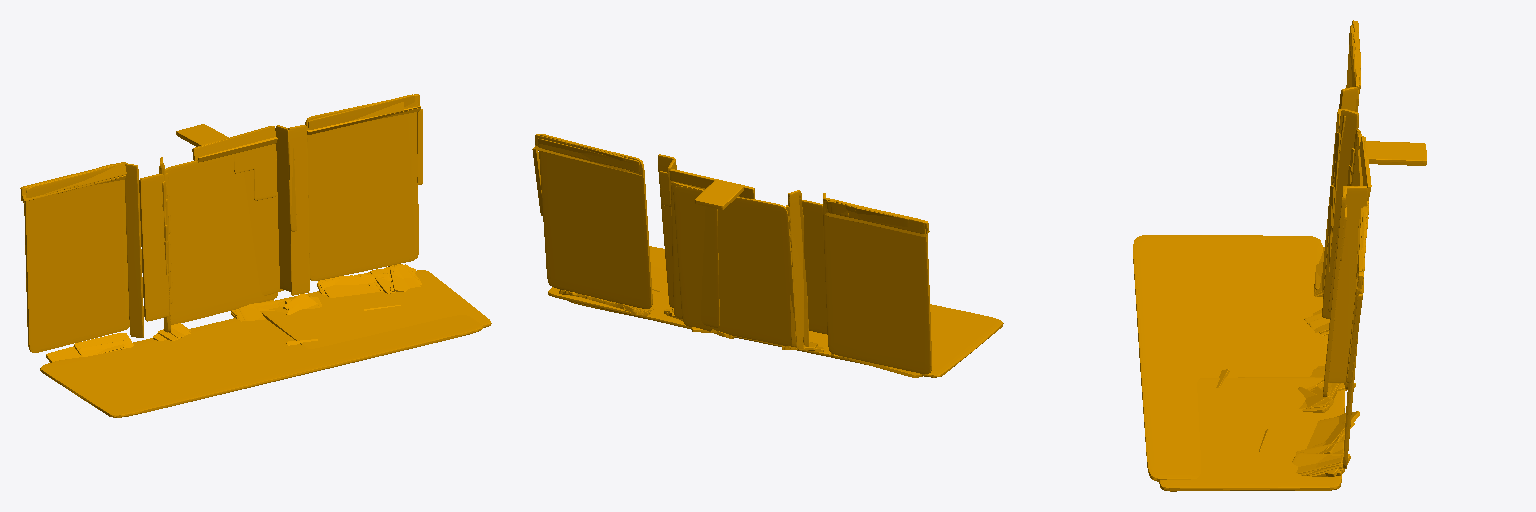
--- What the picture shows (computed from the rendered views, not written in the file) ---
Views: 3 orthographic renders of the robot side by side, from view 1: azimuth 30°, elevation 25°; view 2: azimuth 150°, elevation 25°; view 3: azimuth 270°, elevation 25°.
Robot: scene — 1 links, 0 joints (none); root link scene_link; default pose: every joint at zero.
Links seen in each view (by area): view 1: scene_link; view 2: scene_link; view 3: scene_link.
Link boxes in pixels (bbox=[...]): scene_link: bbox=[20, 94, 491, 417]; scene_link: bbox=[532, 134, 1003, 377]; scene_link: bbox=[1133, 20, 1426, 491].
Size in the robot's own frame: 5.44 by 2.71 by 2.32 metres.
109 mesh visuals loaded from 109 distinct referenced files (109 OBJ).

The robot description file, URDF, robot "scene":
<?xml version='1.0' encoding='utf-8'?>
<robot name="scene"><link name="scene_link"><visual><origin xyz="0.000000 0.000000 0.000000" rpy="0.000000 -0.000000 0.000000" /><geometry><mesh filename="part_000.obj" /></geometry></visual><collision><origin xyz="0.000000 0.000000 0.000000" rpy="0.000000 -0.000000 0.000000" /><geometry><mesh filename="part_000.obj" /></geometry></collision><visual><origin xyz="0.000000 0.000000 0.000000" rpy="0.000000 -0.000000 0.000000" /><geometry><mesh filename="part_001.obj" /></geometry></visual><collision><origin xyz="0.000000 0.000000 0.000000" rpy="0.000000 -0.000000 0.000000" /><geometry><mesh filename="part_001.obj" /></geometry></collision><visual><origin xyz="0.000000 0.000000 0.000000" rpy="0.000000 -0.000000 0.000000" /><geometry><mesh filename="part_002.obj" /></geometry></visual><collision><origin xyz="0.000000 0.000000 0.000000" rpy="0.000000 -0.000000 0.000000" /><geometry><mesh filename="part_002.obj" /></geometry></collision><visual><origin xyz="0.000000 0.000000 0.000000" rpy="0.000000 -0.000000 0.000000" /><geometry><mesh filename="part_003.obj" /></geometry></visual><collision><origin xyz="0.000000 0.000000 0.000000" rpy="0.000000 -0.000000 0.000000" /><geometry><mesh filename="part_003.obj" /></geometry></collision><visual><origin xyz="0.000000 0.000000 0.000000" rpy="0.000000 -0.000000 0.000000" /><geometry><mesh filename="part_004.obj" /></geometry></visual><collision><origin xyz="0.000000 0.000000 0.000000" rpy="0.000000 -0.000000 0.000000" /><geometry><mesh filename="part_004.obj" /></geometry></collision><visual><origin xyz="0.000000 0.000000 0.000000" rpy="0.000000 -0.000000 0.000000" /><geometry><mesh filename="part_005.obj" /></geometry></visual><collision><origin xyz="0.000000 0.000000 0.000000" rpy="0.000000 -0.000000 0.000000" /><geometry><mesh filename="part_005.obj" /></geometry></collision><visual><origin xyz="0.000000 0.000000 0.000000" rpy="0.000000 -0.000000 0.000000" /><geometry><mesh filename="part_006.obj" /></geometry></visual><collision><origin xyz="0.000000 0.000000 0.000000" rpy="0.000000 -0.000000 0.000000" /><geometry><mesh filename="part_006.obj" /></geometry></collision><visual><origin xyz="0.000000 0.000000 0.000000" rpy="0.000000 -0.000000 0.000000" /><geometry><mesh filename="part_007.obj" /></geometry></visual><collision><origin xyz="0.000000 0.000000 0.000000" rpy="0.000000 -0.000000 0.000000" /><geometry><mesh filename="part_007.obj" /></geometry></collision><visual><origin xyz="0.000000 0.000000 0.000000" rpy="0.000000 -0.000000 0.000000" /><geometry><mesh filename="part_008.obj" /></geometry></visual><collision><origin xyz="0.000000 0.000000 0.000000" rpy="0.000000 -0.000000 0.000000" /><geometry><mesh filename="part_008.obj" /></geometry></collision><visual><origin xyz="0.000000 0.000000 0.000000" rpy="0.000000 -0.000000 0.000000" /><geometry><mesh filename="part_009.obj" /></geometry></visual><collision><origin xyz="0.000000 0.000000 0.000000" rpy="0.000000 -0.000000 0.000000" /><geometry><mesh filename="part_009.obj" /></geometry></collision><visual><origin xyz="0.000000 0.000000 0.000000" rpy="0.000000 -0.000000 0.000000" /><geometry><mesh filename="part_010.obj" /></geometry></visual><collision><origin xyz="0.000000 0.000000 0.000000" rpy="0.000000 -0.000000 0.000000" /><geometry><mesh filename="part_010.obj" /></geometry></collision><visual><origin xyz="0.000000 0.000000 0.000000" rpy="0.000000 -0.000000 0.000000" /><geometry><mesh filename="part_011.obj" /></geometry></visual><collision><origin xyz="0.000000 0.000000 0.000000" rpy="0.000000 -0.000000 0.000000" /><geometry><mesh filename="part_011.obj" /></geometry></collision><visual><origin xyz="0.000000 0.000000 0.000000" rpy="0.000000 -0.000000 0.000000" /><geometry><mesh filename="part_012.obj" /></geometry></visual><collision><origin xyz="0.000000 0.000000 0.000000" rpy="0.000000 -0.000000 0.000000" /><geometry><mesh filename="part_012.obj" /></geometry></collision><visual><origin xyz="0.000000 0.000000 0.000000" rpy="0.000000 -0.000000 0.000000" /><geometry><mesh filename="part_013.obj" /></geometry></visual><collision><origin xyz="0.000000 0.000000 0.000000" rpy="0.000000 -0.000000 0.000000" /><geometry><mesh filename="part_013.obj" /></geometry></collision><visual><origin xyz="0.000000 0.000000 0.000000" rpy="0.000000 -0.000000 0.000000" /><geometry><mesh filename="part_014.obj" /></geometry></visual><collision><origin xyz="0.000000 0.000000 0.000000" rpy="0.000000 -0.000000 0.000000" /><geometry><mesh filename="part_014.obj" /></geometry></collision><visual><origin xyz="0.000000 0.000000 0.000000" rpy="0.000000 -0.000000 0.000000" /><geometry><mesh filename="part_015.obj" /></geometry></visual><collision><origin xyz="0.000000 0.000000 0.000000" rpy="0.000000 -0.000000 0.000000" /><geometry><mesh filename="part_015.obj" /></geometry></collision><visual><origin xyz="0.000000 0.000000 0.000000" rpy="0.000000 -0.000000 0.000000" /><geometry><mesh filename="part_016.obj" /></geometry></visual><collision><origin xyz="0.000000 0.000000 0.000000" rpy="0.000000 -0.000000 0.000000" /><geometry><mesh filename="part_016.obj" /></geometry></collision><visual><origin xyz="0.000000 0.000000 0.000000" rpy="0.000000 -0.000000 0.000000" /><geometry><mesh filename="part_017.obj" /></geometry></visual><collision><origin xyz="0.000000 0.000000 0.000000" rpy="0.000000 -0.000000 0.000000" /><geometry><mesh filename="part_017.obj" /></geometry></collision><visual><origin xyz="0.000000 0.000000 0.000000" rpy="0.000000 -0.000000 0.000000" /><geometry><mesh filename="part_018.obj" /></geometry></visual><collision><origin xyz="0.000000 0.000000 0.000000" rpy="0.000000 -0.000000 0.000000" /><geometry><mesh filename="part_018.obj" /></geometry></collision><visual><origin xyz="0.000000 0.000000 0.000000" rpy="0.000000 -0.000000 0.000000" /><geometry><mesh filename="part_019.obj" /></geometry></visual><collision><origin xyz="0.000000 0.000000 0.000000" rpy="0.000000 -0.000000 0.000000" /><geometry><mesh filename="part_019.obj" /></geometry></collision><visual><origin xyz="0.000000 0.000000 0.000000" rpy="0.000000 -0.000000 0.000000" /><geometry><mesh filename="part_020.obj" /></geometry></visual><collision><origin xyz="0.000000 0.000000 0.000000" rpy="0.000000 -0.000000 0.000000" /><geometry><mesh filename="part_020.obj" /></geometry></collision><visual><origin xyz="0.000000 0.000000 0.000000" rpy="0.000000 -0.000000 0.000000" /><geometry><mesh filename="part_021.obj" /></geometry></visual><collision><origin xyz="0.000000 0.000000 0.000000" rpy="0.000000 -0.000000 0.000000" /><geometry><mesh filename="part_021.obj" /></geometry></collision><visual><origin xyz="0.000000 0.000000 0.000000" rpy="0.000000 -0.000000 0.000000" /><geometry><mesh filename="part_022.obj" /></geometry></visual><collision><origin xyz="0.000000 0.000000 0.000000" rpy="0.000000 -0.000000 0.000000" /><geometry><mesh filename="part_022.obj" /></geometry></collision><visual><origin xyz="0.000000 0.000000 0.000000" rpy="0.000000 -0.000000 0.000000" /><geometry><mesh filename="part_023.obj" /></geometry></visual><collision><origin xyz="0.000000 0.000000 0.000000" rpy="0.000000 -0.000000 0.000000" /><geometry><mesh filename="part_023.obj" /></geometry></collision><visual><origin xyz="0.000000 0.000000 0.000000" rpy="0.000000 -0.000000 0.000000" /><geometry><mesh filename="part_024.obj" /></geometry></visual><collision><origin xyz="0.000000 0.000000 0.000000" rpy="0.000000 -0.000000 0.000000" /><geometry><mesh filename="part_024.obj" /></geometry></collision><visual><origin xyz="0.000000 0.000000 0.000000" rpy="0.000000 -0.000000 0.000000" /><geometry><mesh filename="part_025.obj" /></geometry></visual><collision><origin xyz="0.000000 0.000000 0.000000" rpy="0.000000 -0.000000 0.000000" /><geometry><mesh filename="part_025.obj" /></geometry></collision><visual><origin xyz="0.000000 0.000000 0.000000" rpy="0.000000 -0.000000 0.000000" /><geometry><mesh filename="part_026.obj" /></geometry></visual><collision><origin xyz="0.000000 0.000000 0.000000" rpy="0.000000 -0.000000 0.000000" /><geometry><mesh filename="part_026.obj" /></geometry></collision><visual><origin xyz="0.000000 0.000000 0.000000" rpy="0.000000 -0.000000 0.000000" /><geometry><mesh filename="part_027.obj" /></geometry></visual><collision><origin xyz="0.000000 0.000000 0.000000" rpy="0.000000 -0.000000 0.000000" /><geometry><mesh filename="part_027.obj" /></geometry></collision><visual><origin xyz="0.000000 0.000000 0.000000" rpy="0.000000 -0.000000 0.000000" /><geometry><mesh filename="part_028.obj" /></geometry></visual><collision><origin xyz="0.000000 0.000000 0.000000" rpy="0.000000 -0.000000 0.000000" /><geometry><mesh filename="part_028.obj" /></geometry></collision><visual><origin xyz="0.000000 0.000000 0.000000" rpy="0.000000 -0.000000 0.000000" /><geometry><mesh filename="part_029.obj" /></geometry></visual><collision><origin xyz="0.000000 0.000000 0.000000" rpy="0.000000 -0.000000 0.000000" /><geometry><mesh filename="part_029.obj" /></geometry></collision><visual><origin xyz="0.000000 0.000000 0.000000" rpy="0.000000 -0.000000 0.000000" /><geometry><mesh filename="part_030.obj" /></geometry></visual><collision><origin xyz="0.000000 0.000000 0.000000" rpy="0.000000 -0.000000 0.000000" /><geometry><mesh filename="part_030.obj" /></geometry></collision><visual><origin xyz="0.000000 0.000000 0.000000" rpy="0.000000 -0.000000 0.000000" /><geometry><mesh filename="part_031.obj" /></geometry></visual><collision><origin xyz="0.000000 0.000000 0.000000" rpy="0.000000 -0.000000 0.000000" /><geometry><mesh filename="part_031.obj" /></geometry></collision><visual><origin xyz="0.000000 0.000000 0.000000" rpy="0.000000 -0.000000 0.000000" /><geometry><mesh filename="part_032.obj" /></geometry></visual><collision><origin xyz="0.000000 0.000000 0.000000" rpy="0.000000 -0.000000 0.000000" /><geometry><mesh filename="part_032.obj" /></geometry></collision><visual><origin xyz="0.000000 0.000000 0.000000" rpy="0.000000 -0.000000 0.000000" /><geometry><mesh filename="part_033.obj" /></geometry></visual><collision><origin xyz="0.000000 0.000000 0.000000" rpy="0.000000 -0.000000 0.000000" /><geometry><mesh filename="part_033.obj" /></geometry></collision><visual><origin xyz="0.000000 0.000000 0.000000" rpy="0.000000 -0.000000 0.000000" /><geometry><mesh filename="part_034.obj" /></geometry></visual><collision><origin xyz="0.000000 0.000000 0.000000" rpy="0.000000 -0.000000 0.000000" /><geometry><mesh filename="part_034.obj" /></geometry></collision><visual><origin xyz="0.000000 0.000000 0.000000" rpy="0.000000 -0.000000 0.000000" /><geometry><mesh filename="part_035.obj" /></geometry></visual><collision><origin xyz="0.000000 0.000000 0.000000" rpy="0.000000 -0.000000 0.000000" /><geometry><mesh filename="part_035.obj" /></geometry></collision><visual><origin xyz="0.000000 0.000000 0.000000" rpy="0.000000 -0.000000 0.000000" /><geometry><mesh filename="part_036.obj" /></geometry></visual><collision><origin xyz="0.000000 0.000000 0.000000" rpy="0.000000 -0.000000 0.000000" /><geometry><mesh filename="part_036.obj" /></geometry></collision><visual><origin xyz="0.000000 0.000000 0.000000" rpy="0.000000 -0.000000 0.000000" /><geometry><mesh filename="part_037.obj" /></geometry></visual><collision><origin xyz="0.000000 0.000000 0.000000" rpy="0.000000 -0.000000 0.000000" /><geometry><mesh filename="part_037.obj" /></geometry></collision><visual><origin xyz="0.000000 0.000000 0.000000" rpy="0.000000 -0.000000 0.000000" /><geometry><mesh filename="part_038.obj" /></geometry></visual><collision><origin xyz="0.000000 0.000000 0.000000" rpy="0.000000 -0.000000 0.000000" /><geometry><mesh filename="part_038.obj" /></geometry></collision><visual><origin xyz="0.000000 0.000000 0.000000" rpy="0.000000 -0.000000 0.000000" /><geometry><mesh filename="part_039.obj" /></geometry></visual><collision><origin xyz="0.000000 0.000000 0.000000" rpy="0.000000 -0.000000 0.000000" /><geometry><mesh filename="part_039.obj" /></geometry></collision><visual><origin xyz="0.000000 0.000000 0.000000" rpy="0.000000 -0.000000 0.000000" /><geometry><mesh filename="part_040.obj" /></geometry></visual><collision><origin xyz="0.000000 0.000000 0.000000" rpy="0.000000 -0.000000 0.000000" /><geometry><mesh filename="part_040.obj" /></geometry></collision><visual><origin xyz="0.000000 0.000000 0.000000" rpy="0.000000 -0.000000 0.000000" /><geometry><mesh filename="part_041.obj" /></geometry></visual><collision><origin xyz="0.000000 0.000000 0.000000" rpy="0.000000 -0.000000 0.000000" /><geometry><mesh filename="part_041.obj" /></geometry></collision><visual><origin xyz="0.000000 0.000000 0.000000" rpy="0.000000 -0.000000 0.000000" /><geometry><mesh filename="part_042.obj" /></geometry></visual><collision><origin xyz="0.000000 0.000000 0.000000" rpy="0.000000 -0.000000 0.000000" /><geometry><mesh filename="part_042.obj" /></geometry></collision><visual><origin xyz="0.000000 0.000000 0.000000" rpy="0.000000 -0.000000 0.000000" /><geometry><mesh filename="part_043.obj" /></geometry></visual><collision><origin xyz="0.000000 0.000000 0.000000" rpy="0.000000 -0.000000 0.000000" /><geometry><mesh filename="part_043.obj" /></geometry></collision><visual><origin xyz="0.000000 0.000000 0.000000" rpy="0.000000 -0.000000 0.000000" /><geometry><mesh filename="part_044.obj" /></geometry></visual><collision><origin xyz="0.000000 0.000000 0.000000" rpy="0.000000 -0.000000 0.000000" /><geometry><mesh filename="part_044.obj" /></geometry></collision><visual><origin xyz="0.000000 0.000000 0.000000" rpy="0.000000 -0.000000 0.000000" /><geometry><mesh filename="part_045.obj" /></geometry></visual><collision><origin xyz="0.000000 0.000000 0.000000" rpy="0.000000 -0.000000 0.000000" /><geometry><mesh filename="part_045.obj" /></geometry></collision><visual><origin xyz="0.000000 0.000000 0.000000" rpy="0.000000 -0.000000 0.000000" /><geometry><mesh filename="part_046.obj" /></geometry></visual><collision><origin xyz="0.000000 0.000000 0.000000" rpy="0.000000 -0.000000 0.000000" /><geometry><mesh filename="part_046.obj" /></geometry></collision><visual><origin xyz="0.000000 0.000000 0.000000" rpy="0.000000 -0.000000 0.000000" /><geometry><mesh filename="part_047.obj" /></geometry></visual><collision><origin xyz="0.000000 0.000000 0.000000" rpy="0.000000 -0.000000 0.000000" /><geometry><mesh filename="part_047.obj" /></geometry></collision><visual><origin xyz="0.000000 0.000000 0.000000" rpy="0.000000 -0.000000 0.000000" /><geometry><mesh filename="part_048.obj" /></geometry></visual><collision><origin xyz="0.000000 0.000000 0.000000" rpy="0.000000 -0.000000 0.000000" /><geometry><mesh filename="part_048.obj" /></geometry></collision><visual><origin xyz="0.000000 0.000000 0.000000" rpy="0.000000 -0.000000 0.000000" /><geometry><mesh filename="part_049.obj" /></geometry></visual><collision><origin xyz="0.000000 0.000000 0.000000" rpy="0.000000 -0.000000 0.000000" /><geometry><mesh filename="part_049.obj" /></geometry></collision><visual><origin xyz="0.000000 0.000000 0.000000" rpy="0.000000 -0.000000 0.000000" /><geometry><mesh filename="part_050.obj" /></geometry></visual><collision><origin xyz="0.000000 0.000000 0.000000" rpy="0.000000 -0.000000 0.000000" /><geometry><mesh filename="part_050.obj" /></geometry></collision><visual><origin xyz="0.000000 0.000000 0.000000" rpy="0.000000 -0.000000 0.000000" /><geometry><mesh filename="part_051.obj" /></geometry></visual><collision><origin xyz="0.000000 0.000000 0.000000" rpy="0.000000 -0.000000 0.000000" /><geometry><mesh filename="part_051.obj" /></geometry></collision><visual><origin xyz="0.000000 0.000000 0.000000" rpy="0.000000 -0.000000 0.000000" /><geometry><mesh filename="part_052.obj" /></geometry></visual><collision><origin xyz="0.000000 0.000000 0.000000" rpy="0.000000 -0.000000 0.000000" /><geometry><mesh filename="part_052.obj" /></geometry></collision><visual><origin xyz="0.000000 0.000000 0.000000" rpy="0.000000 -0.000000 0.000000" /><geometry><mesh filename="part_053.obj" /></geometry></visual><collision><origin xyz="0.000000 0.000000 0.000000" rpy="0.000000 -0.000000 0.000000" /><geometry><mesh filename="part_053.obj" /></geometry></collision><visual><origin xyz="0.000000 0.000000 0.000000" rpy="0.000000 -0.000000 0.000000" /><geometry><mesh filename="part_054.obj" /></geometry></visual><collision><origin xyz="0.000000 0.000000 0.000000" rpy="0.000000 -0.000000 0.000000" /><geometry><mesh filename="part_054.obj" /></geometry></collision><visual><origin xyz="0.000000 0.000000 0.000000" rpy="0.000000 -0.000000 0.000000" /><geometry><mesh filename="part_055.obj" /></geometry></visual><collision><origin xyz="0.000000 0.000000 0.000000" rpy="0.000000 -0.000000 0.000000" /><geometry><mesh filename="part_055.obj" /></geometry></collision><visual><origin xyz="0.000000 0.000000 0.000000" rpy="0.000000 -0.000000 0.000000" /><geometry><mesh filename="part_056.obj" /></geometry></visual><collision><origin xyz="0.000000 0.000000 0.000000" rpy="0.000000 -0.000000 0.000000" /><geometry><mesh filename="part_056.obj" /></geometry></collision><visual><origin xyz="0.000000 0.000000 0.000000" rpy="0.000000 -0.000000 0.000000" /><geometry><mesh filename="part_057.obj" /></geometry></visual><collision><origin xyz="0.000000 0.000000 0.000000" rpy="0.000000 -0.000000 0.000000" /><geometry><mesh filename="part_057.obj" /></geometry></collision><visual><origin xyz="0.000000 0.000000 0.000000" rpy="0.000000 -0.000000 0.000000" /><geometry><mesh filename="part_058.obj" /></geometry></visual><collision><origin xyz="0.000000 0.000000 0.000000" rpy="0.000000 -0.000000 0.000000" /><geometry><mesh filename="part_058.obj" /></geometry></collision><visual><origin xyz="0.000000 0.000000 0.000000" rpy="0.000000 -0.000000 0.000000" /><geometry><mesh filename="part_059.obj" /></geometry></visual><collision><origin xyz="0.000000 0.000000 0.000000" rpy="0.000000 -0.000000 0.000000" /><geometry><mesh filename="part_059.obj" /></geometry></collision><visual><origin xyz="0.000000 0.000000 0.000000" rpy="0.000000 -0.000000 0.000000" /><geometry><mesh filename="part_060.obj" /></geometry></visual><collision><origin xyz="0.000000 0.000000 0.000000" rpy="0.000000 -0.000000 0.000000" /><geometry><mesh filename="part_060.obj" /></geometry></collision><visual><origin xyz="0.000000 0.000000 0.000000" rpy="0.000000 -0.000000 0.000000" /><geometry><mesh filename="part_061.obj" /></geometry></visual><collision><origin xyz="0.000000 0.000000 0.000000" rpy="0.000000 -0.000000 0.000000" /><geometry><mesh filename="part_061.obj" /></geometry></collision><visual><origin xyz="0.000000 0.000000 0.000000" rpy="0.000000 -0.000000 0.000000" /><geometry><mesh filename="part_062.obj" /></geometry></visual><collision><origin xyz="0.000000 0.000000 0.000000" rpy="0.000000 -0.000000 0.000000" /><geometry><mesh filename="part_062.obj" /></geometry></collision><visual><origin xyz="0.000000 0.000000 0.000000" rpy="0.000000 -0.000000 0.000000" /><geometry><mesh filename="part_063.obj" /></geometry></visual><collision><origin xyz="0.000000 0.000000 0.000000" rpy="0.000000 -0.000000 0.000000" /><geometry><mesh filename="part_063.obj" /></geometry></collision><visual><origin xyz="0.000000 0.000000 0.000000" rpy="0.000000 -0.000000 0.000000" /><geometry><mesh filename="part_064.obj" /></geometry></visual><collision><origin xyz="0.000000 0.000000 0.000000" rpy="0.000000 -0.000000 0.000000" /><geometry><mesh filename="part_064.obj" /></geometry></collision><visual><origin xyz="0.000000 0.000000 0.000000" rpy="0.000000 -0.000000 0.000000" /><geometry><mesh filename="part_065.obj" /></geometry></visual><collision><origin xyz="0.000000 0.000000 0.000000" rpy="0.000000 -0.000000 0.000000" /><geometry><mesh filename="part_065.obj" /></geometry></collision><visual><origin xyz="0.000000 0.000000 0.000000" rpy="0.000000 -0.000000 0.000000" /><geometry><mesh filename="part_066.obj" /></geometry></visual><collision><origin xyz="0.000000 0.000000 0.000000" rpy="0.000000 -0.000000 0.000000" /><geometry><mesh filename="part_066.obj" /></geometry></collision><visual><origin xyz="0.000000 0.000000 0.000000" rpy="0.000000 -0.000000 0.000000" /><geometry><mesh filename="part_067.obj" /></geometry></visual><collision><origin xyz="0.000000 0.000000 0.000000" rpy="0.000000 -0.000000 0.000000" /><geometry><mesh filename="part_067.obj" /></geometry></collision><visual><origin xyz="0.000000 0.000000 0.000000" rpy="0.000000 -0.000000 0.000000" /><geometry><mesh filename="part_068.obj" /></geometry></visual><collision><origin xyz="0.000000 0.000000 0.000000" rpy="0.000000 -0.000000 0.000000" /><geometry><mesh filename="part_068.obj" /></geometry></collision><visual><origin xyz="0.000000 0.000000 0.000000" rpy="0.000000 -0.000000 0.000000" /><geometry><mesh filename="part_069.obj" /></geometry></visual><collision><origin xyz="0.000000 0.000000 0.000000" rpy="0.000000 -0.000000 0.000000" /><geometry><mesh filename="part_069.obj" /></geometry></collision><visual><origin xyz="0.000000 0.000000 0.000000" rpy="0.000000 -0.000000 0.000000" /><geometry><mesh filename="part_070.obj" /></geometry></visual><collision><origin xyz="0.000000 0.000000 0.000000" rpy="0.000000 -0.000000 0.000000" /><geometry><mesh filename="part_070.obj" /></geometry></collision><visual><origin xyz="0.000000 0.000000 0.000000" rpy="0.000000 -0.000000 0.000000" /><geometry><mesh filename="part_071.obj" /></geometry></visual><collision><origin xyz="0.000000 0.000000 0.000000" rpy="0.000000 -0.000000 0.000000" /><geometry><mesh filename="part_071.obj" /></geometry></collision><visual><origin xyz="0.000000 0.000000 0.000000" rpy="0.000000 -0.000000 0.000000" /><geometry><mesh filename="part_072.obj" /></geometry></visual><collision><origin xyz="0.000000 0.000000 0.000000" rpy="0.000000 -0.000000 0.000000" /><geometry><mesh filename="part_072.obj" /></geometry></collision><visual><origin xyz="0.000000 0.000000 0.000000" rpy="0.000000 -0.000000 0.000000" /><geometry><mesh filename="part_073.obj" /></geometry></visual><collision><origin xyz="0.000000 0.000000 0.000000" rpy="0.000000 -0.000000 0.000000" /><geometry><mesh filename="part_073.obj" /></geometry></collision><visual><origin xyz="0.000000 0.000000 0.000000" rpy="0.000000 -0.000000 0.000000" /><geometry><mesh filename="part_074.obj" /></geometry></visual><collision><origin xyz="0.000000 0.000000 0.000000" rpy="0.000000 -0.000000 0.000000" /><geometry><mesh filename="part_074.obj" /></geometry></collision><visual><origin xyz="0.000000 0.000000 0.000000" rpy="0.000000 -0.000000 0.000000" /><geometry><mesh filename="part_075.obj" /></geometry></visual><collision><origin xyz="0.000000 0.000000 0.000000" rpy="0.000000 -0.000000 0.000000" /><geometry><mesh filename="part_075.obj" /></geometry></collision><visual><origin xyz="0.000000 0.000000 0.000000" rpy="0.000000 -0.000000 0.000000" /><geometry><mesh filename="part_076.obj" /></geometry></visual><collision><origin xyz="0.000000 0.000000 0.000000" rpy="0.000000 -0.000000 0.000000" /><geometry><mesh filename="part_076.obj" /></geometry></collision><visual><origin xyz="0.000000 0.000000 0.000000" rpy="0.000000 -0.000000 0.000000" /><geometry><mesh filename="part_077.obj" /></geometry></visual><collision><origin xyz="0.000000 0.000000 0.000000" rpy="0.000000 -0.000000 0.000000" /><geometry><mesh filename="part_077.obj" /></geometry></collision><visual><origin xyz="0.000000 0.000000 0.000000" rpy="0.000000 -0.000000 0.000000" /><geometry><mesh filename="part_078.obj" /></geometry></visual><collision><origin xyz="0.000000 0.000000 0.000000" rpy="0.000000 -0.000000 0.000000" /><geometry><mesh filename="part_078.obj" /></geometry></collision><visual><origin xyz="0.000000 0.000000 0.000000" rpy="0.000000 -0.000000 0.000000" /><geometry><mesh filename="part_079.obj" /></geometry></visual><collision><origin xyz="0.000000 0.000000 0.000000" rpy="0.000000 -0.000000 0.000000" /><geometry><mesh filename="part_079.obj" /></geometry></collision><visual><origin xyz="0.000000 0.000000 0.000000" rpy="0.000000 -0.000000 0.000000" /><geometry><mesh filename="part_080.obj" /></geometry></visual><collision><origin xyz="0.000000 0.000000 0.000000" rpy="0.000000 -0.000000 0.000000" /><geometry><mesh filename="part_080.obj" /></geometry></collision><visual><origin xyz="0.000000 0.000000 0.000000" rpy="0.000000 -0.000000 0.000000" /><geometry><mesh filename="part_081.obj" /></geometry></visual><collision><origin xyz="0.000000 0.000000 0.000000" rpy="0.000000 -0.000000 0.000000" /><geometry><mesh filename="part_081.obj" /></geometry></collision><visual><origin xyz="0.000000 0.000000 0.000000" rpy="0.000000 -0.000000 0.000000" /><geometry><mesh filename="part_082.obj" /></geometry></visual><collision><origin xyz="0.000000 0.000000 0.000000" rpy="0.000000 -0.000000 0.000000" /><geometry><mesh filename="part_082.obj" /></geometry></collision><visual><origin xyz="0.000000 0.000000 0.000000" rpy="0.000000 -0.000000 0.000000" /><geometry><mesh filename="part_083.obj" /></geometry></visual><collision><origin xyz="0.000000 0.000000 0.000000" rpy="0.000000 -0.000000 0.000000" /><geometry><mesh filename="part_083.obj" /></geometry></collision><visual><origin xyz="0.000000 0.000000 0.000000" rpy="0.000000 -0.000000 0.000000" /><geometry><mesh filename="part_084.obj" /></geometry></visual><collision><origin xyz="0.000000 0.000000 0.000000" rpy="0.000000 -0.000000 0.000000" /><geometry><mesh filename="part_084.obj" /></geometry></collision><visual><origin xyz="0.000000 0.000000 0.000000" rpy="0.000000 -0.000000 0.000000" /><geometry><mesh filename="part_085.obj" /></geometry></visual><collision><origin xyz="0.000000 0.000000 0.000000" rpy="0.000000 -0.000000 0.000000" /><geometry><mesh filename="part_085.obj" /></geometry></collision><visual><origin xyz="0.000000 0.000000 0.000000" rpy="0.000000 -0.000000 0.000000" /><geometry><mesh filename="part_086.obj" /></geometry></visual><collision><origin xyz="0.000000 0.000000 0.000000" rpy="0.000000 -0.000000 0.000000" /><geometry><mesh filename="part_086.obj" /></geometry></collision><visual><origin xyz="0.000000 0.000000 0.000000" rpy="0.000000 -0.000000 0.000000" /><geometry><mesh filename="part_087.obj" /></geometry></visual><collision><origin xyz="0.000000 0.000000 0.000000" rpy="0.000000 -0.000000 0.000000" /><geometry><mesh filename="part_087.obj" /></geometry></collision><visual><origin xyz="0.000000 0.000000 0.000000" rpy="0.000000 -0.000000 0.000000" /><geometry><mesh filename="part_088.obj" /></geometry></visual><collision><origin xyz="0.000000 0.000000 0.000000" rpy="0.000000 -0.000000 0.000000" /><geometry><mesh filename="part_088.obj" /></geometry></collision><visual><origin xyz="0.000000 0.000000 0.000000" rpy="0.000000 -0.000000 0.000000" /><geometry><mesh filename="part_089.obj" /></geometry></visual><collision><origin xyz="0.000000 0.000000 0.000000" rpy="0.000000 -0.000000 0.000000" /><geometry><mesh filename="part_089.obj" /></geometry></collision><visual><origin xyz="0.000000 0.000000 0.000000" rpy="0.000000 -0.000000 0.000000" /><geometry><mesh filename="part_090.obj" /></geometry></visual><collision><origin xyz="0.000000 0.000000 0.000000" rpy="0.000000 -0.000000 0.000000" /><geometry><mesh filename="part_090.obj" /></geometry></collision><visual><origin xyz="0.000000 0.000000 0.000000" rpy="0.000000 -0.000000 0.000000" /><geometry><mesh filename="part_091.obj" /></geometry></visual><collision><origin xyz="0.000000 0.000000 0.000000" rpy="0.000000 -0.000000 0.000000" /><geometry><mesh filename="part_091.obj" /></geometry></collision><visual><origin xyz="0.000000 0.000000 0.000000" rpy="0.000000 -0.000000 0.000000" /><geometry><mesh filename="part_092.obj" /></geometry></visual><collision><origin xyz="0.000000 0.000000 0.000000" rpy="0.000000 -0.000000 0.000000" /><geometry><mesh filename="part_092.obj" /></geometry></collision><visual><origin xyz="0.000000 0.000000 0.000000" rpy="0.000000 -0.000000 0.000000" /><geometry><mesh filename="part_093.obj" /></geometry></visual><collision><origin xyz="0.000000 0.000000 0.000000" rpy="0.000000 -0.000000 0.000000" /><geometry><mesh filename="part_093.obj" /></geometry></collision><visual><origin xyz="0.000000 0.000000 0.000000" rpy="0.000000 -0.000000 0.000000" /><geometry><mesh filename="part_094.obj" /></geometry></visual><collision><origin xyz="0.000000 0.000000 0.000000" rpy="0.000000 -0.000000 0.000000" /><geometry><mesh filename="part_094.obj" /></geometry></collision><visual><origin xyz="0.000000 0.000000 0.000000" rpy="0.000000 -0.000000 0.000000" /><geometry><mesh filename="part_095.obj" /></geometry></visual><collision><origin xyz="0.000000 0.000000 0.000000" rpy="0.000000 -0.000000 0.000000" /><geometry><mesh filename="part_095.obj" /></geometry></collision><visual><origin xyz="0.000000 0.000000 0.000000" rpy="0.000000 -0.000000 0.000000" /><geometry><mesh filename="part_096.obj" /></geometry></visual><collision><origin xyz="0.000000 0.000000 0.000000" rpy="0.000000 -0.000000 0.000000" /><geometry><mesh filename="part_096.obj" /></geometry></collision><visual><origin xyz="0.000000 0.000000 0.000000" rpy="0.000000 -0.000000 0.000000" /><geometry><mesh filename="part_097.obj" /></geometry></visual><collision><origin xyz="0.000000 0.000000 0.000000" rpy="0.000000 -0.000000 0.000000" /><geometry><mesh filename="part_097.obj" /></geometry></collision><visual><origin xyz="0.000000 0.000000 0.000000" rpy="0.000000 -0.000000 0.000000" /><geometry><mesh filename="part_098.obj" /></geometry></visual><collision><origin xyz="0.000000 0.000000 0.000000" rpy="0.000000 -0.000000 0.000000" /><geometry><mesh filename="part_098.obj" /></geometry></collision><visual><origin xyz="0.000000 0.000000 0.000000" rpy="0.000000 -0.000000 0.000000" /><geometry><mesh filename="part_099.obj" /></geometry></visual><collision><origin xyz="0.000000 0.000000 0.000000" rpy="0.000000 -0.000000 0.000000" /><geometry><mesh filename="part_099.obj" /></geometry></collision><visual><origin xyz="0.000000 0.000000 0.000000" rpy="0.000000 -0.000000 0.000000" /><geometry><mesh filename="part_100.obj" /></geometry></visual><collision><origin xyz="0.000000 0.000000 0.000000" rpy="0.000000 -0.000000 0.000000" /><geometry><mesh filename="part_100.obj" /></geometry></collision><visual><origin xyz="0.000000 0.000000 0.000000" rpy="0.000000 -0.000000 0.000000" /><geometry><mesh filename="part_101.obj" /></geometry></visual><collision><origin xyz="0.000000 0.000000 0.000000" rpy="0.000000 -0.000000 0.000000" /><geometry><mesh filename="part_101.obj" /></geometry></collision><visual><origin xyz="0.000000 0.000000 0.000000" rpy="0.000000 -0.000000 0.000000" /><geometry><mesh filename="part_102.obj" /></geometry></visual><collision><origin xyz="0.000000 0.000000 0.000000" rpy="0.000000 -0.000000 0.000000" /><geometry><mesh filename="part_102.obj" /></geometry></collision><visual><origin xyz="0.000000 0.000000 0.000000" rpy="0.000000 -0.000000 0.000000" /><geometry><mesh filename="part_103.obj" /></geometry></visual><collision><origin xyz="0.000000 0.000000 0.000000" rpy="0.000000 -0.000000 0.000000" /><geometry><mesh filename="part_103.obj" /></geometry></collision><visual><origin xyz="0.000000 0.000000 0.000000" rpy="0.000000 -0.000000 0.000000" /><geometry><mesh filename="part_104.obj" /></geometry></visual><collision><origin xyz="0.000000 0.000000 0.000000" rpy="0.000000 -0.000000 0.000000" /><geometry><mesh filename="part_104.obj" /></geometry></collision><visual><origin xyz="0.000000 0.000000 0.000000" rpy="0.000000 -0.000000 0.000000" /><geometry><mesh filename="part_105.obj" /></geometry></visual><collision><origin xyz="0.000000 0.000000 0.000000" rpy="0.000000 -0.000000 0.000000" /><geometry><mesh filename="part_105.obj" /></geometry></collision><visual><origin xyz="0.000000 0.000000 0.000000" rpy="0.000000 -0.000000 0.000000" /><geometry><mesh filename="part_106.obj" /></geometry></visual><collision><origin xyz="0.000000 0.000000 0.000000" rpy="0.000000 -0.000000 0.000000" /><geometry><mesh filename="part_106.obj" /></geometry></collision><visual><origin xyz="0.000000 0.000000 0.000000" rpy="0.000000 -0.000000 0.000000" /><geometry><mesh filename="part_107.obj" /></geometry></visual><collision><origin xyz="0.000000 0.000000 0.000000" rpy="0.000000 -0.000000 0.000000" /><geometry><mesh filename="part_107.obj" /></geometry></collision><visual><origin xyz="0.000000 0.000000 0.000000" rpy="0.000000 -0.000000 0.000000" /><geometry><mesh filename="part_108.obj" /></geometry></visual><collision><origin xyz="0.000000 0.000000 0.000000" rpy="0.000000 -0.000000 0.000000" /><geometry><mesh filename="part_108.obj" /></geometry></collision></link></robot>
